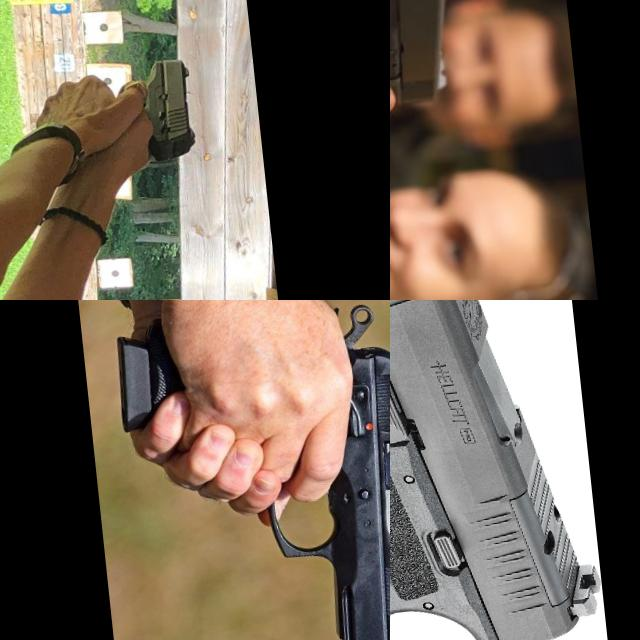handgun: (390, 300, 640, 640), (255, 338, 390, 640), (390, 0, 479, 123), (132, 54, 200, 167)
